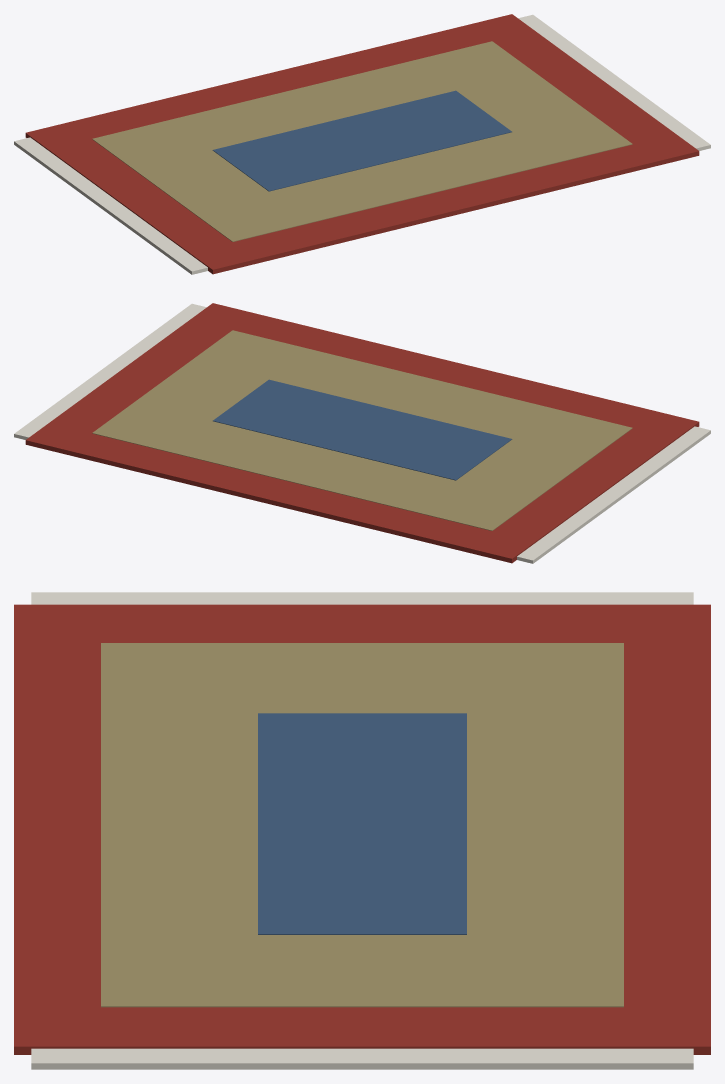
The model's file is int_rug.glb.
3 views of the same model, one above another, from view 1: azimuth 30°, elevation 25°; view 2: azimuth 150°, elevation 25°; view 3: azimuth 270°, elevation 25° (orthographic). The views are drawn at different scales.
Parts seen in each view (by area): view 1: int_rug; view 2: int_rug; view 3: int_rug.
Boxes of the visible parts, x1,y1,x2,y2 form: int_rug: (14,14,710,274); int_rug: (14,303,710,563); int_rug: (14,592,710,1069).
Bounding box in the file's own units: 1.92 × 0.02 × 1.2.
Materials: 2 (2 with a texture image).
